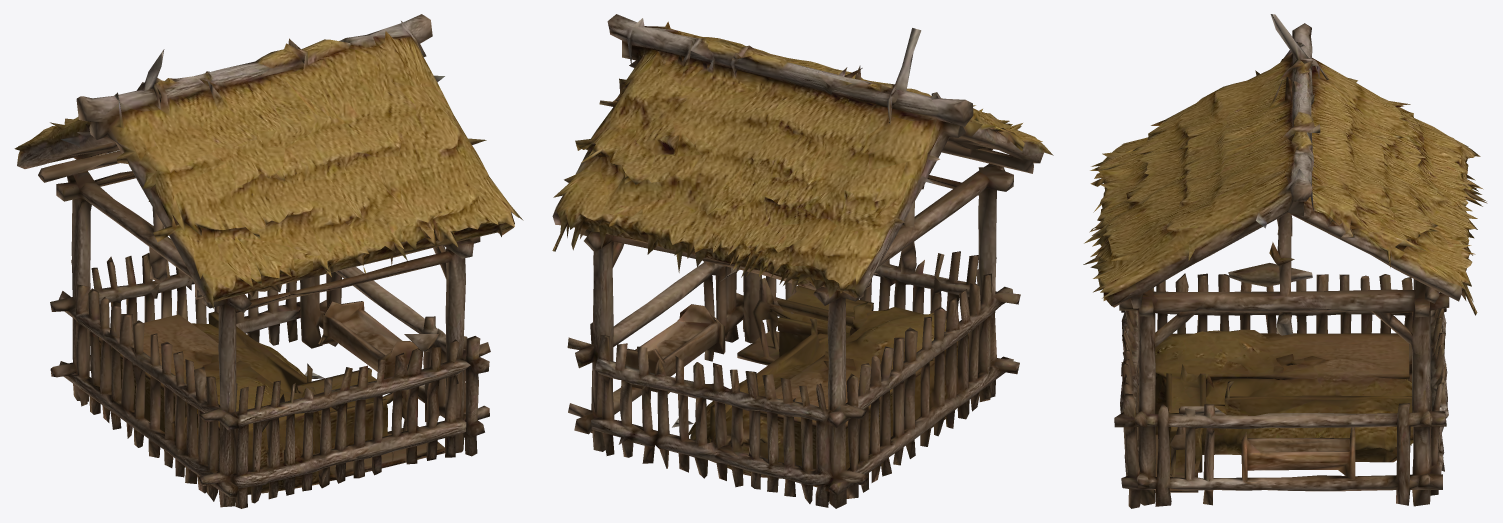
File: v-shed.glb
3 views of the same model, side by side, from view 1: azimuth 30°, elevation 25°; view 2: azimuth 150°, elevation 25°; view 3: azimuth 270°, elevation 25° (orthographic). The views are drawn at different scales.
Visible parts, largest first — view 1: tripo_node_7e9c9537-3c9f-41c2-8897-07782b19286d; view 2: tripo_node_7e9c9537-3c9f-41c2-8897-07782b19286d; view 3: tripo_node_7e9c9537-3c9f-41c2-8897-07782b19286d.
Part boxes in pixels (bbox=[...]): tripo_node_7e9c9537-3c9f-41c2-8897-07782b19286d: bbox=[14, 14, 523, 508]; tripo_node_7e9c9537-3c9f-41c2-8897-07782b19286d: bbox=[552, 14, 1053, 508]; tripo_node_7e9c9537-3c9f-41c2-8897-07782b19286d: bbox=[1083, 14, 1487, 508].
Size of the model in its own units: 0.89 by 1 by 0.9557.
Materials: 1 (1 with a texture image).
